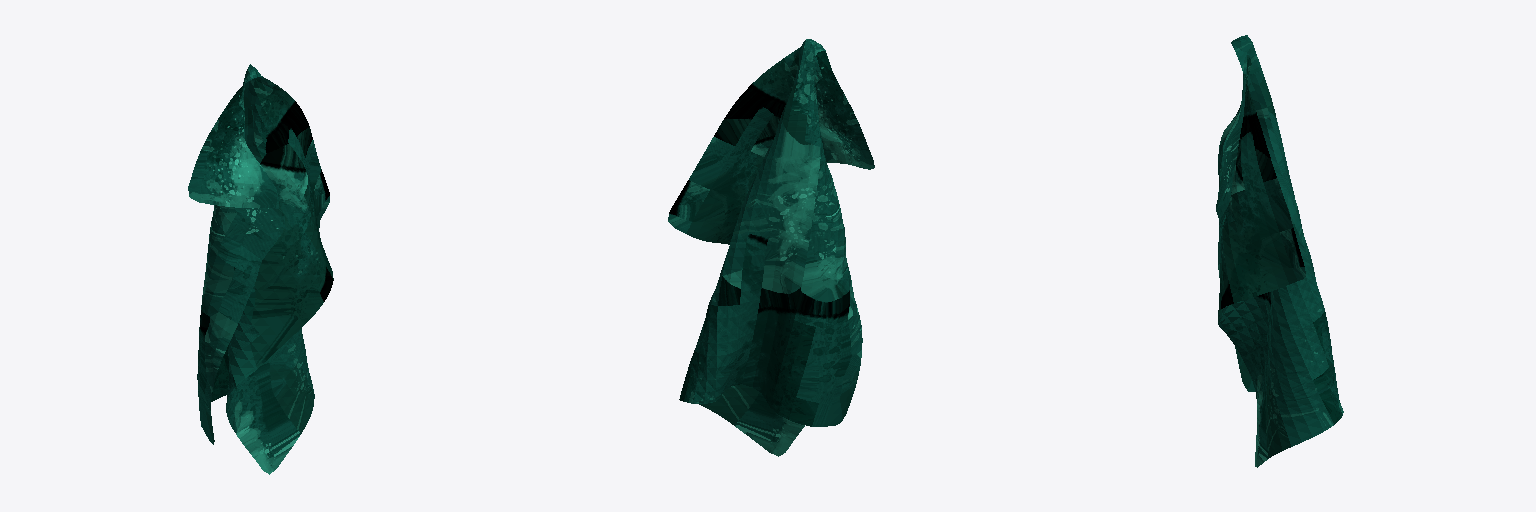
3 views of the same model, side by side, from view 1: azimuth 30°, elevation 25°; view 2: azimuth 150°, elevation 25°; view 3: azimuth 270°, elevation 25° (orthographic).
Visible parts, largest first — view 1: Plane.019_Plane.021; view 2: Plane.019_Plane.021; view 3: Plane.019_Plane.021.
Boxes of the visible parts, box(x1,y1,x2,y2) form: Plane.019_Plane.021: box(188, 64, 333, 474); Plane.019_Plane.021: box(668, 39, 874, 456); Plane.019_Plane.021: box(1216, 35, 1343, 467).
Size of the model in its own units: 0.2789 by 0.6429 by 0.1776.
1 materials, 1 textured.